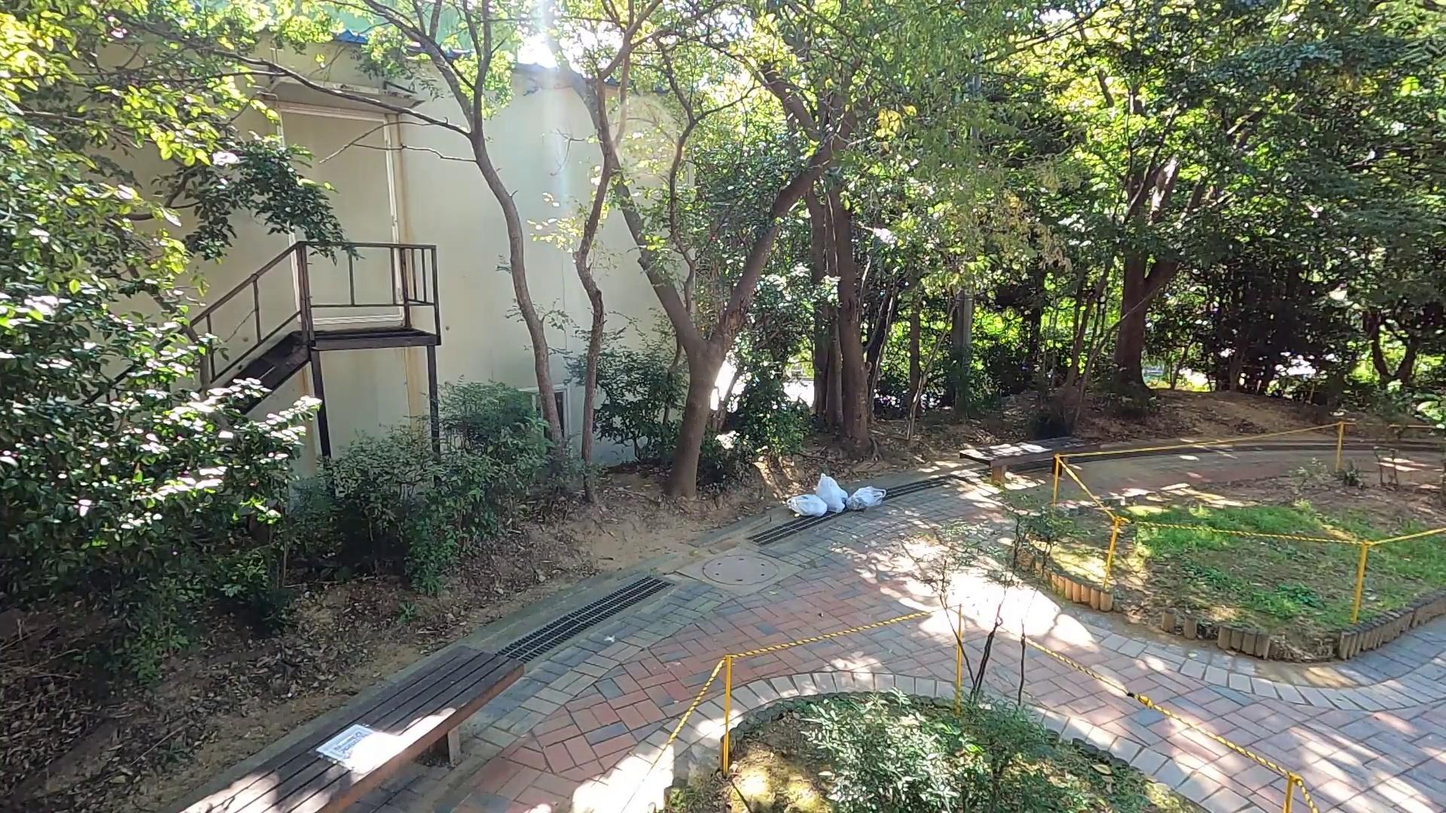trash: (814, 474, 848, 514), (786, 493, 829, 518), (844, 484, 885, 510)
